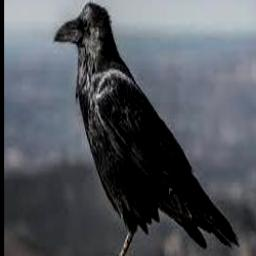Crow: (54, 1, 241, 256)
